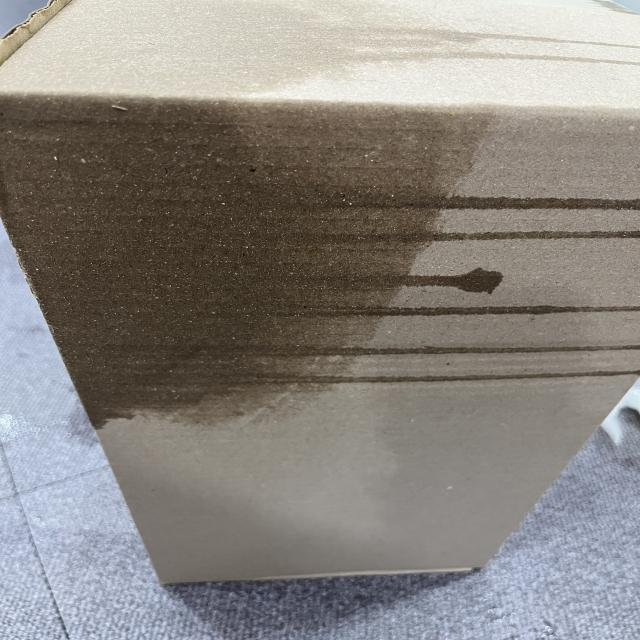wet: (0, 98, 478, 427)
